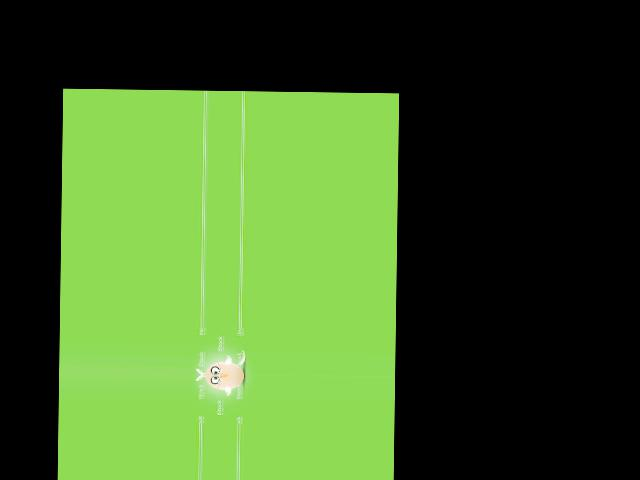egg: (205, 360, 244, 389)
